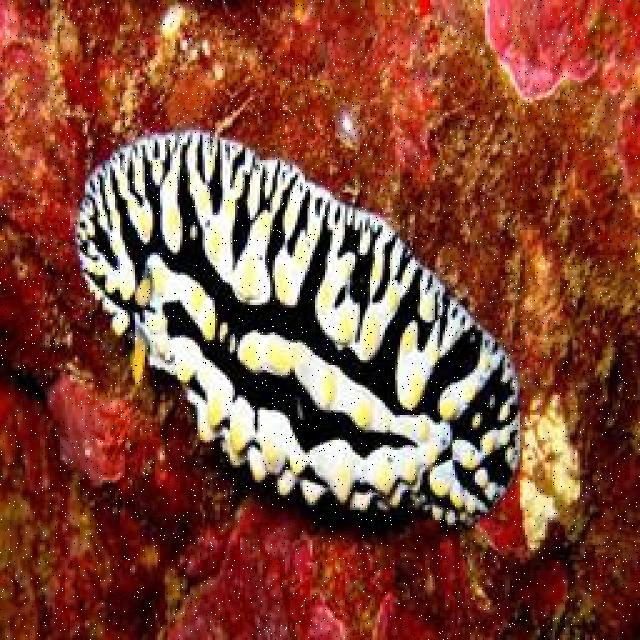reefs: (74, 130, 523, 533)
